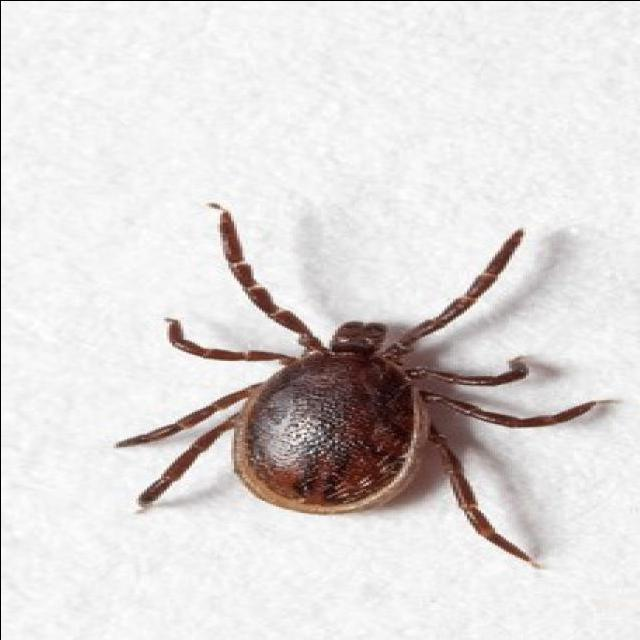Ixodes Ricinus-M: (115, 202, 615, 565)
